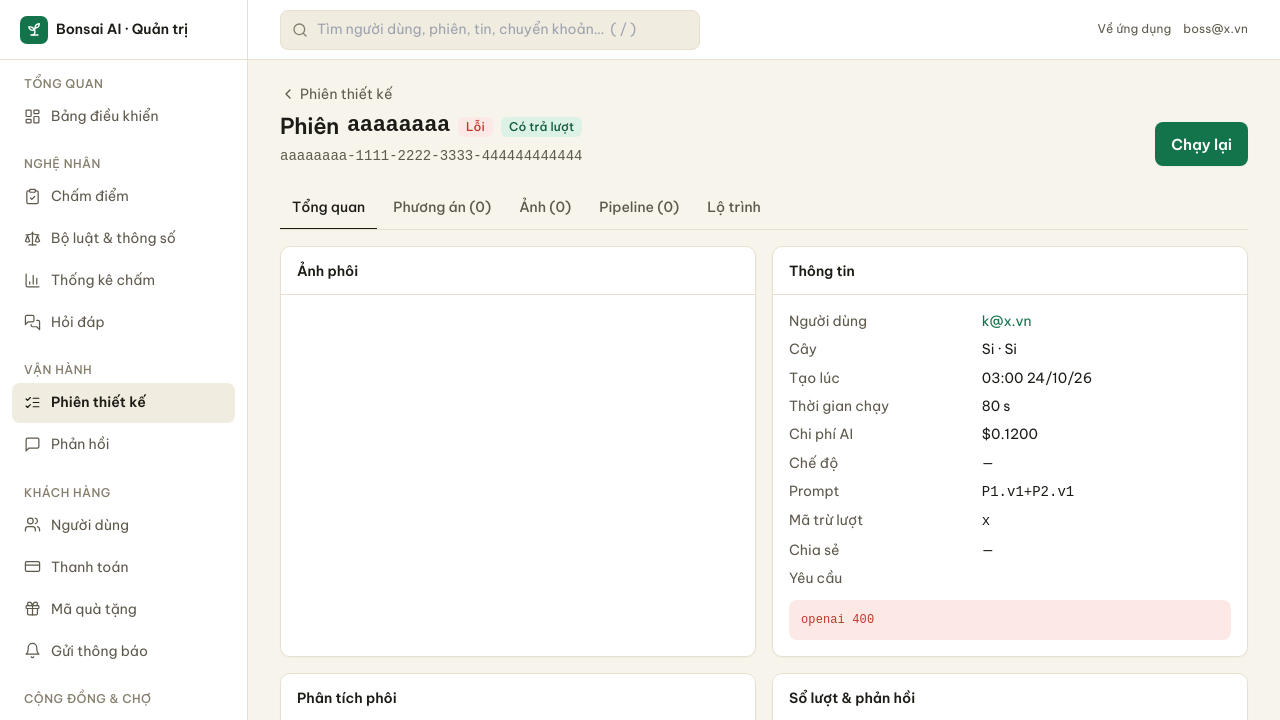
Test: Admin console › retries a failed paid job with a note
Expected: the button "openai 400" is shown, [789,600,1231,640]
Click the button "Chạy lại" at (1202, 144), box [1155,122,1248,166]
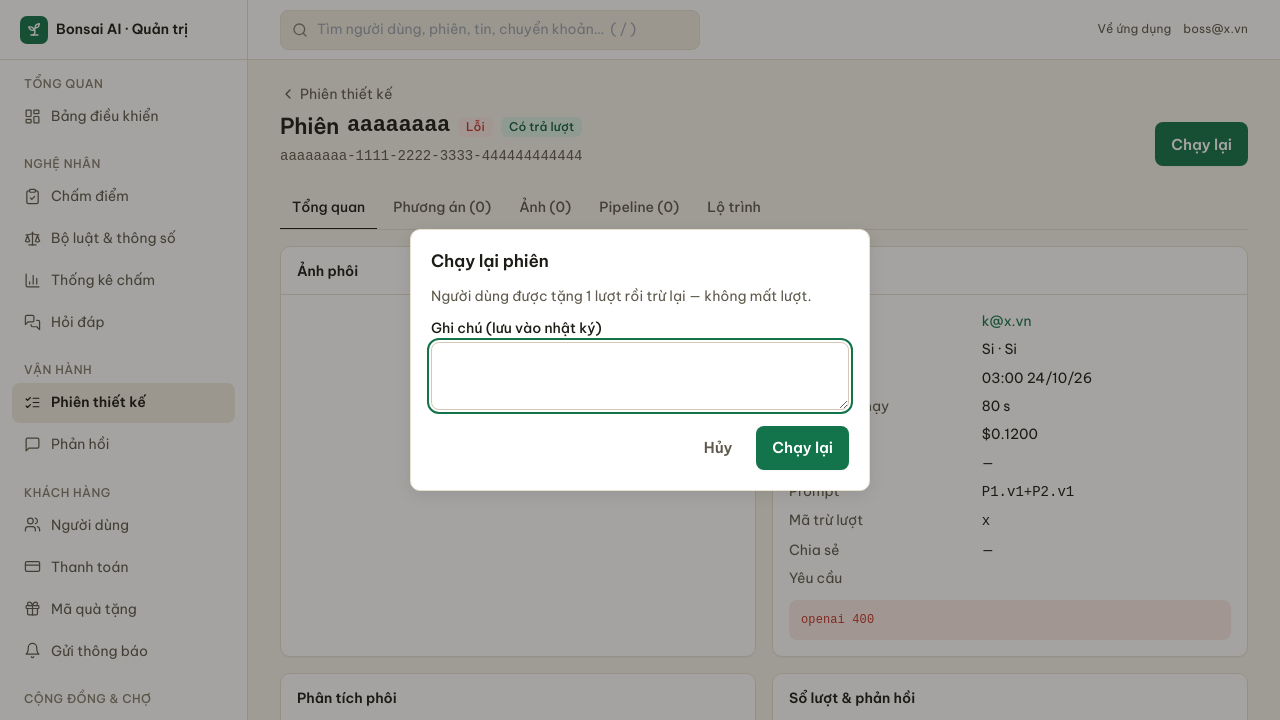
Expected: the text "Người dùng được tặng 1 lượt rồi trừ lại — không mất lượt." is shown, [431,286,849,306]
Type "model lỗi tạm" into the text box labelled "Ghi chú (lưu vào nhật ký)" at (640, 376), box [431,342,849,410]
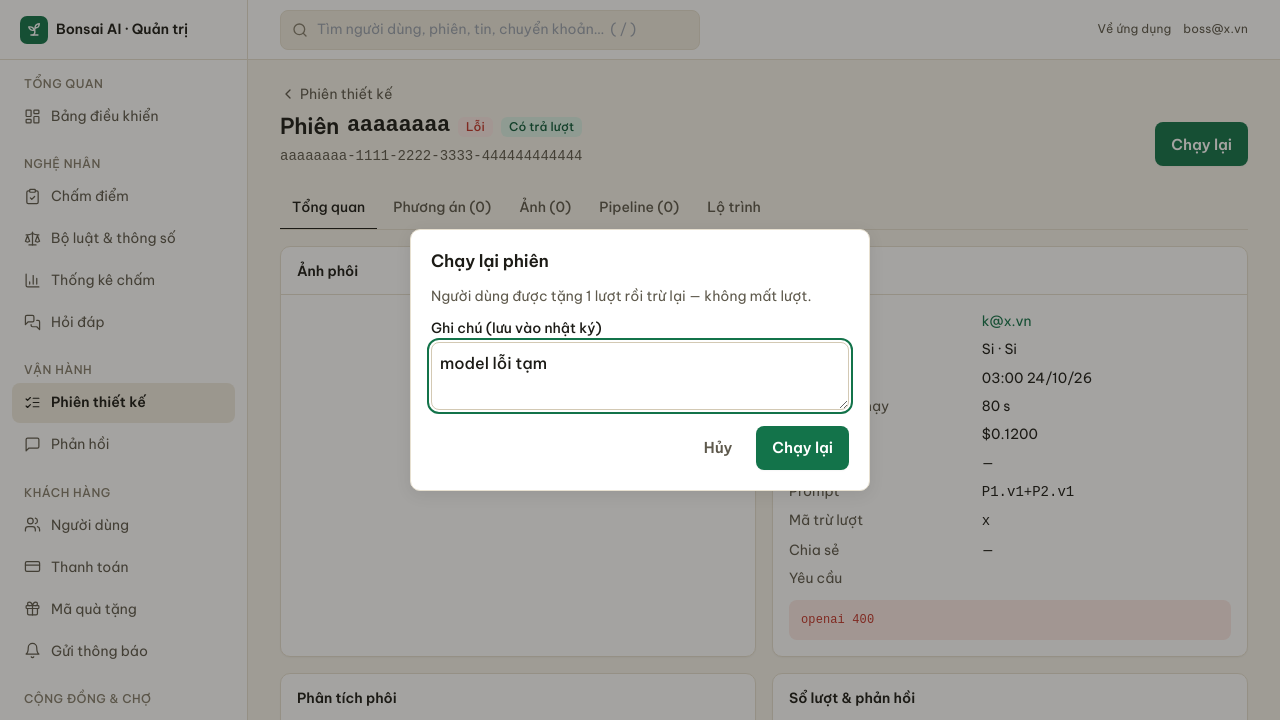
Click the button "Chạy lại" at (803, 448), box [756,426,849,470]
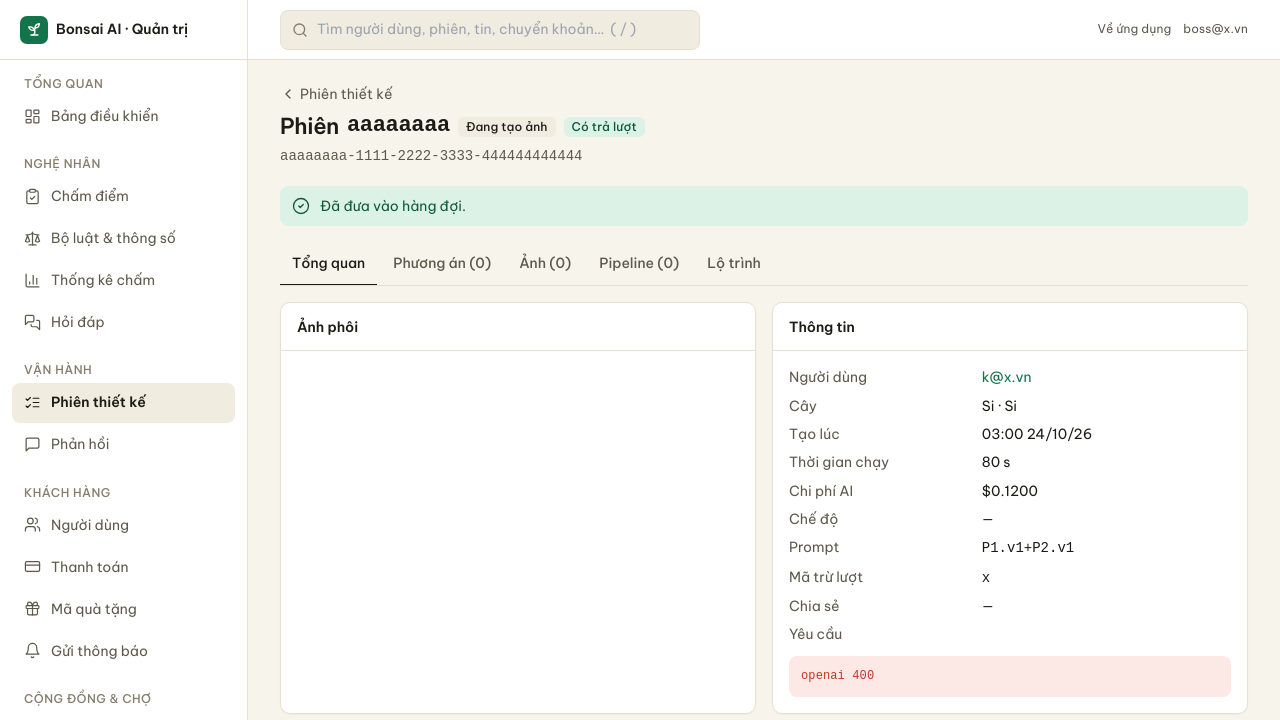
Expected: the text "Đã đưa vào hàng đợi." is shown, [320,197,466,215]
Expected: the text "Đang tạo ảnh" is shown, [458,116,556,137]
